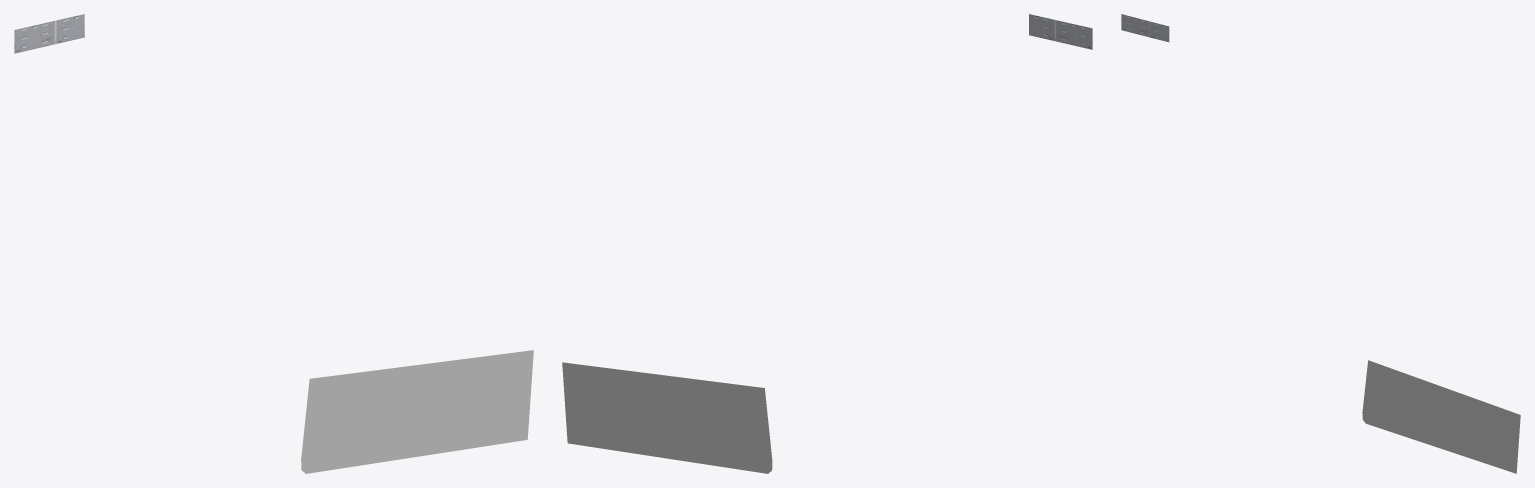
The model's file is tile_roof_110.glb.
The picture shows the model from 3 angles, left to right: view 1: azimuth 30°, elevation 25°; view 2: azimuth 150°, elevation 25°; view 3: azimuth 330°, elevation 25°; orthographic projection. The views are drawn at different scales.
Size of the model in its own units: 413 by 405 by 44.2.
Materials: 1 (1 with a texture image).
